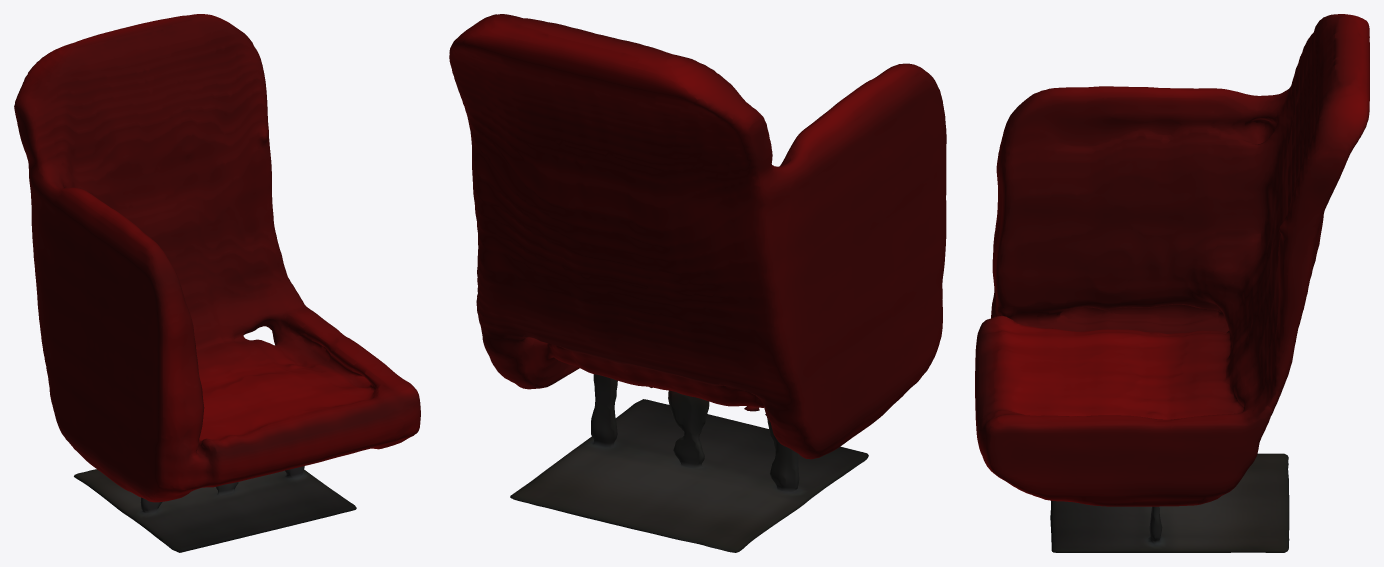
File: 1 chair with red color cover on it from head rest .glb
3 views of the same model, side by side, from view 1: azimuth 30°, elevation 25°; view 2: azimuth 150°, elevation 25°; view 3: azimuth 270°, elevation 25° (orthographic). The views are drawn at different scales.
Visible parts, largest first — view 1: 1 chair with red color cover on it from head rest; view 2: 1 chair with red color cover on it from head rest; view 3: 1 chair with red color cover on it from head rest.
Boxes of the visible parts, <box> form: 1 chair with red color cover on it from head rest: <box>14,14,420,552</box>; 1 chair with red color cover on it from head rest: <box>449,14,946,552</box>; 1 chair with red color cover on it from head rest: <box>975,14,1369,552</box>.
Size of the model in its own units: 1.31 by 1.98 by 1.56.
